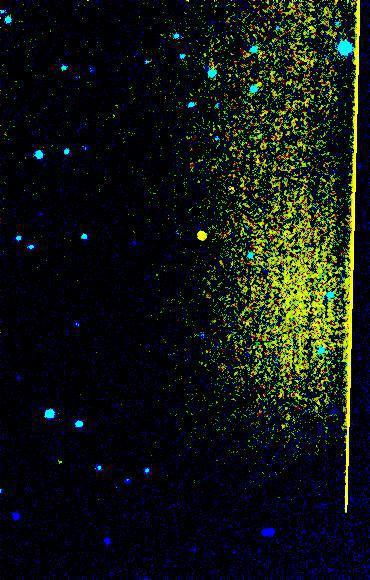star: (186, 220, 216, 250)
